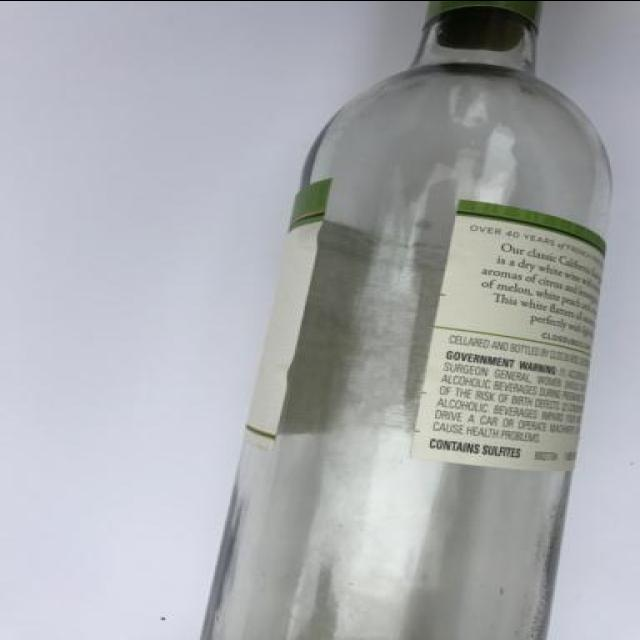Glass Bottle: (180, 1, 616, 638)
